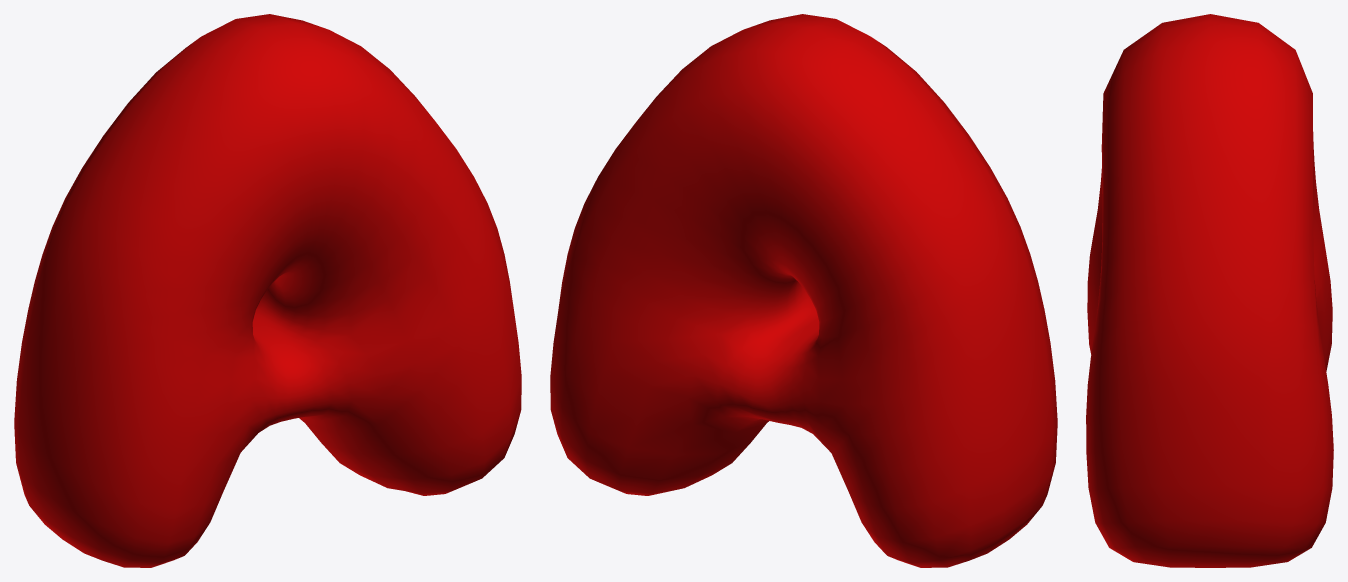
The picture shows the model from 3 angles, left to right: view 1: azimuth 30°, elevation 25°; view 2: azimuth 150°, elevation 25°; view 3: azimuth 270°, elevation 25°; orthographic projection. The views are drawn at different scales.
Parts seen in each view (by area): view 1: A_0; view 2: A_0; view 3: A_0.
Part boxes in pixels (box(x1,y1,x2,y2)): A_0: box(14, 14, 521, 567); A_0: box(550, 14, 1057, 567); A_0: box(1086, 14, 1333, 567).
Bounding box in the file's own units: 101 × 101 × 48.23.
